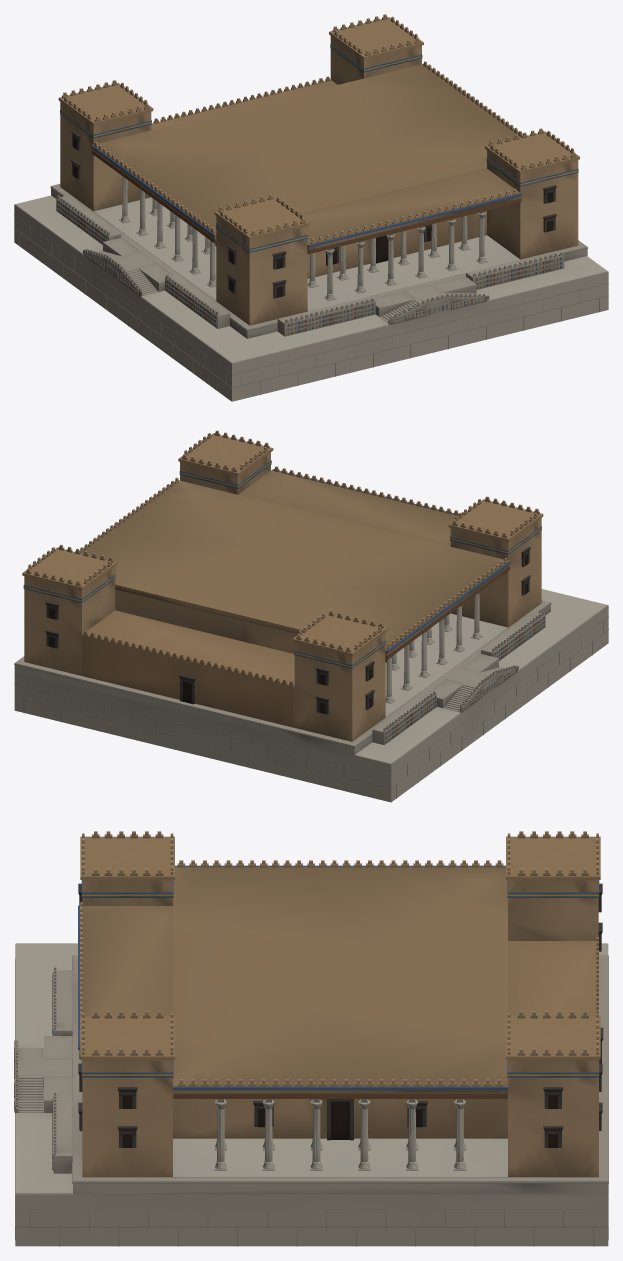
File: apadana.glb
3 renders of one model, top to bottom at view 1: azimuth 30°, elevation 25°; view 2: azimuth 150°, elevation 25°; view 3: azimuth 270°, elevation 25°, orthographic. The views are drawn at different scales.
Parts seen in each view (by area): view 1: p0_platform, p2_roof, p1_columns; view 2: p1_columns, p2_roof, p0_platform; view 3: p2_roof, p0_platform, p1_columns.
Boxes of the visible parts, x1,y1,x2,y2 form: p0_platform: (14, 184, 608, 401); p2_roof: (91, 61, 522, 254); p1_columns: (58, 14, 579, 325); p1_columns: (22, 430, 543, 741); p2_roof: (79, 466, 510, 685); p0_platform: (14, 589, 608, 802); p2_roof: (78, 860, 598, 1098); p0_platform: (14, 943, 608, 1246); p1_columns: (78, 831, 603, 1177).
Bounding box in the file's own units: 124 × 44.49 × 124.
